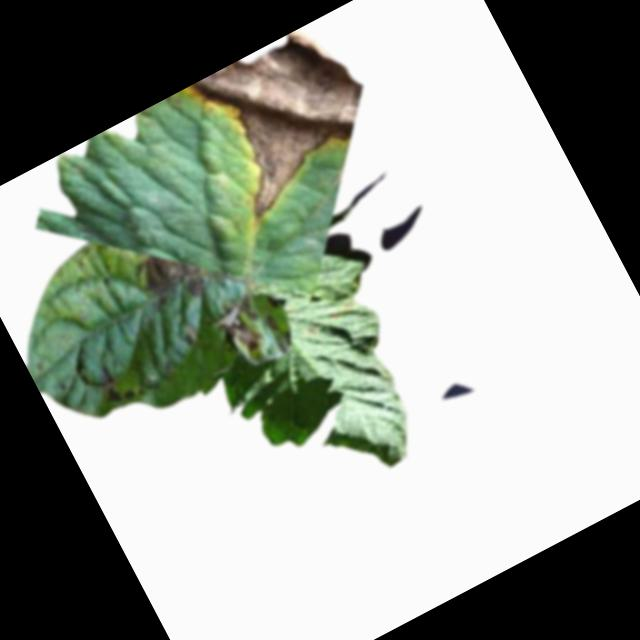Early_blight: (185, 13, 398, 223), (137, 234, 220, 316), (205, 286, 275, 362), (89, 359, 138, 411), (324, 299, 357, 328), (261, 313, 281, 338)
